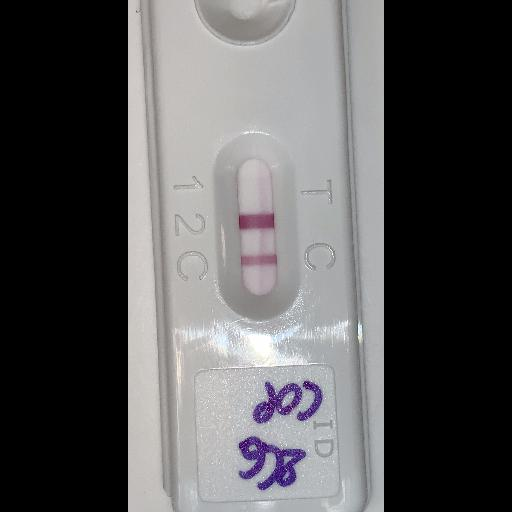Pos: (145, 0, 368, 510)
